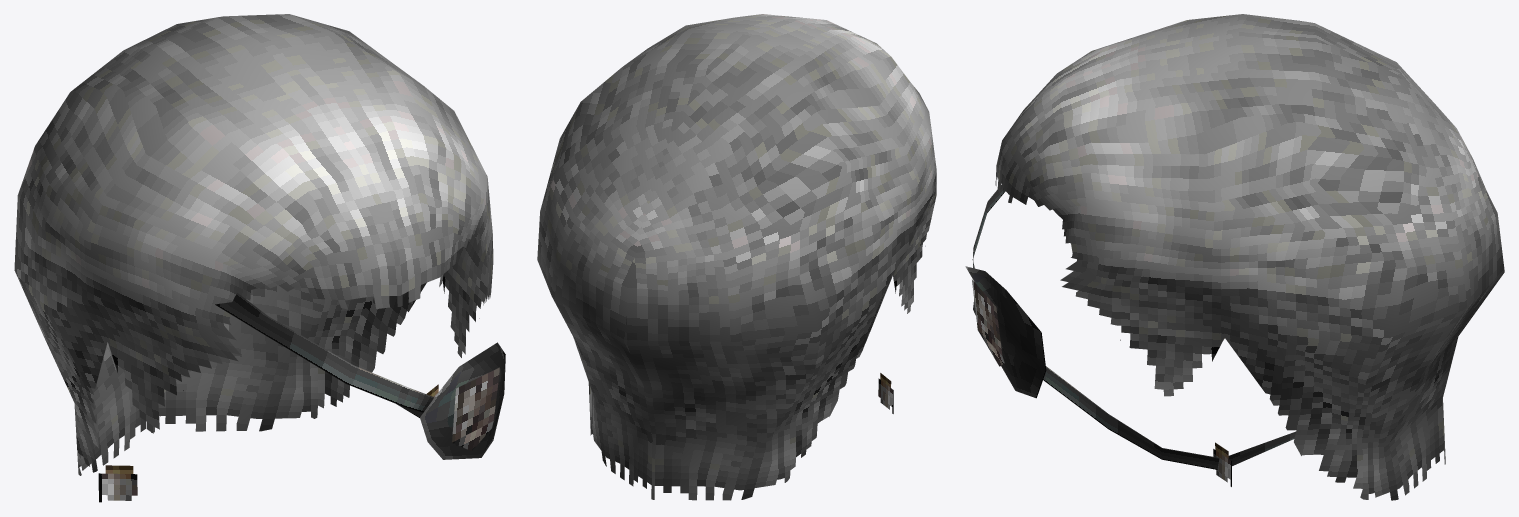
The model's file is m_helmet215.obj.
3 renders of one model, left to right at view 1: azimuth 30°, elevation 25°; view 2: azimuth 150°, elevation 25°; view 3: azimuth 270°, elevation 25°, orthographic. The views are drawn at different scales.
Parts seen in each view (by area): view 1: mesh00, mesh02, mesh01; view 2: mesh00; view 3: mesh00, mesh02, mesh01.
Boxes of the visible parts, <box> form: mesh00: <box>14,14,493,475</box>; mesh02: <box>105,293,505,473</box>; mesh01: <box>98,367,499,502</box>; mesh00: <box>537,14,936,500</box>; mesh00: <box>995,14,1504,500</box>; mesh02: <box>965,184,1295,469</box>; mesh01: <box>972,279,1231,486</box>.
Bounding box in the file's own units: 17.28 × 20.51 × 23.15.
Materials: 3 (3 with a texture image).
